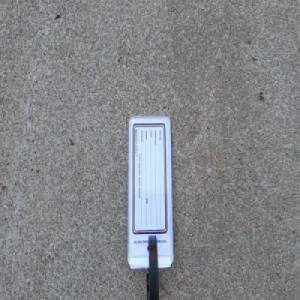LuggageTag: (126, 113, 175, 300)
